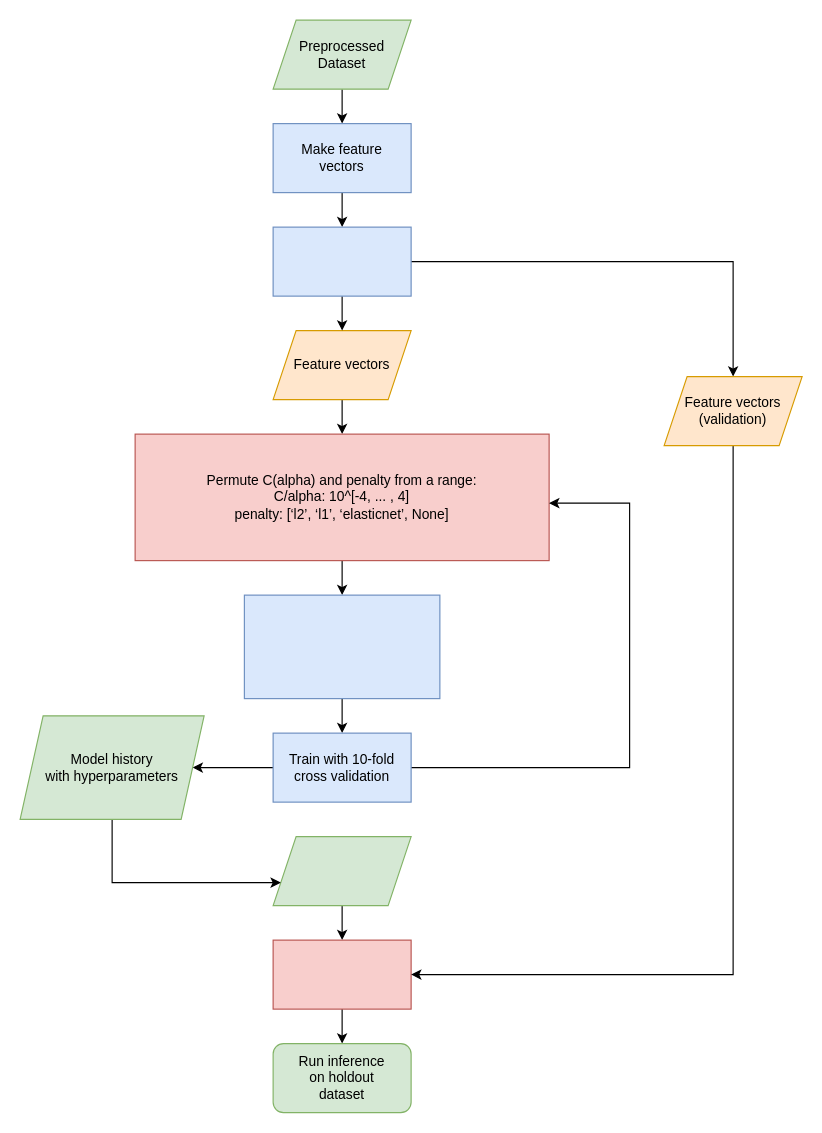
Some shapes in this 822 by 1133 pixel diagram are drawn without their labels. Here are the shapes that lost their labels. From the top down, the centre of each, then its label:
At point (341, 261): "Test/Val split".
At point (341, 646): "Initialize SGDClassifier with ‘modified_huber’ loss".
At point (341, 870): "Best Model".
At point (341, 974): "Validation".
